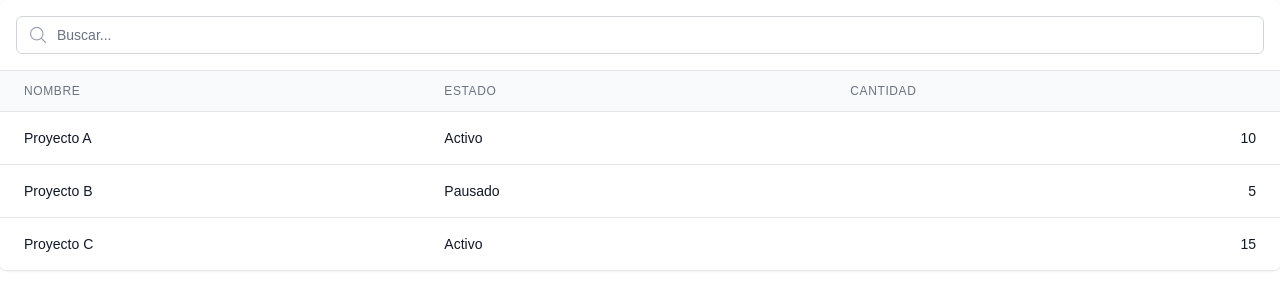
Test: Table › filters data when searching
Type "Proyecto A" into the field with placeholder "Buscar...". click: (640, 35)
box: [16,16,1264,54]
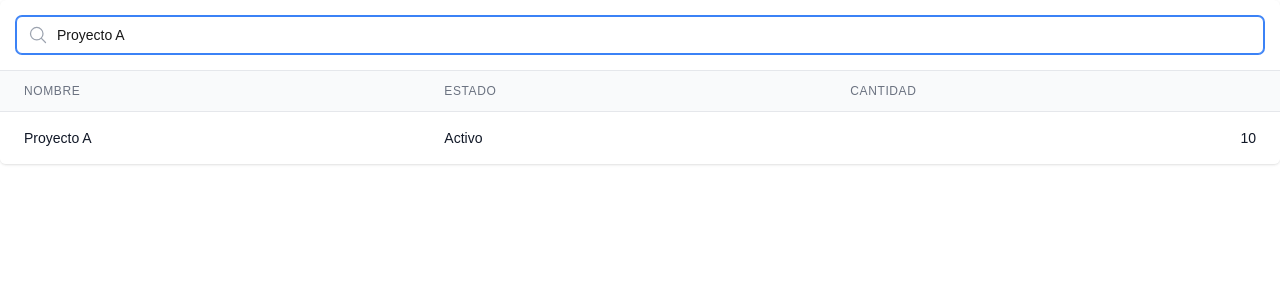
Expected: the text "Proyecto A" is shown, [24,130,92,146]
Expected: the text "Proyecto B" is gone
